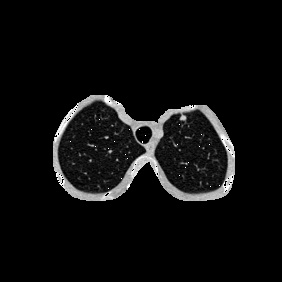PN: (179, 113, 187, 121)
